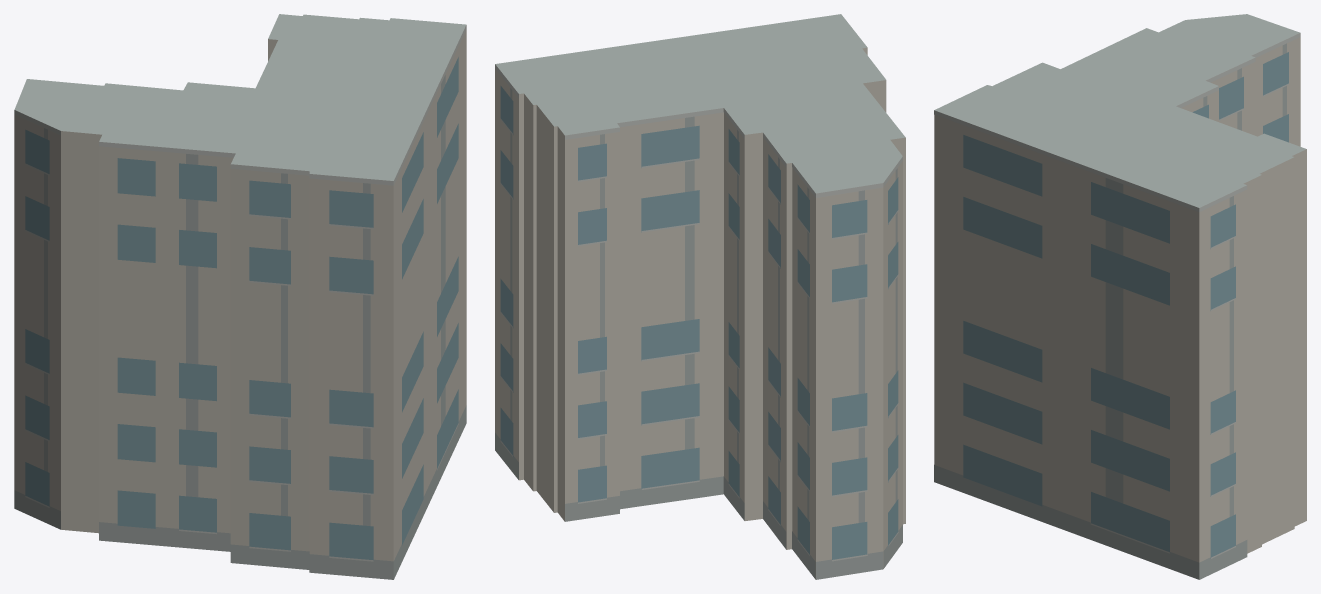
Rendered from survey-upis-32766748.glb.
The picture shows the model from 3 angles, left to right: view 1: azimuth 30°, elevation 25°; view 2: azimuth 150°, elevation 25°; view 3: azimuth 270°, elevation 25°; orthographic projection. The views are drawn at different scales.
Visible parts, largest first — view 1: survey-upis-32766748.tmp; view 2: survey-upis-32766748.tmp; view 3: survey-upis-32766748.tmp.
Part boxes in pixels (left/top/right/bottom): survey-upis-32766748.tmp: left=14, top=14, right=466, bottom=579; survey-upis-32766748.tmp: left=495, top=14, right=905, bottom=579; survey-upis-32766748.tmp: left=934, top=14, right=1306, bottom=579.
Size of the model in its own units: 23.73 by 21.2 by 19.26.
